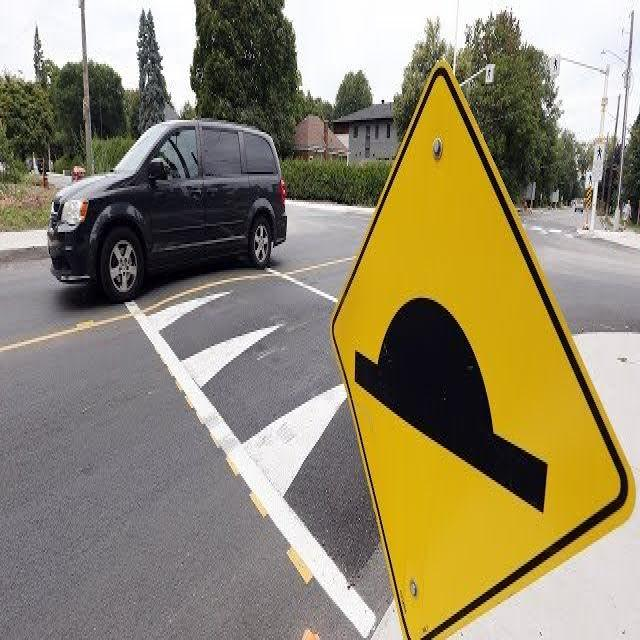hump: (329, 42, 637, 640)
